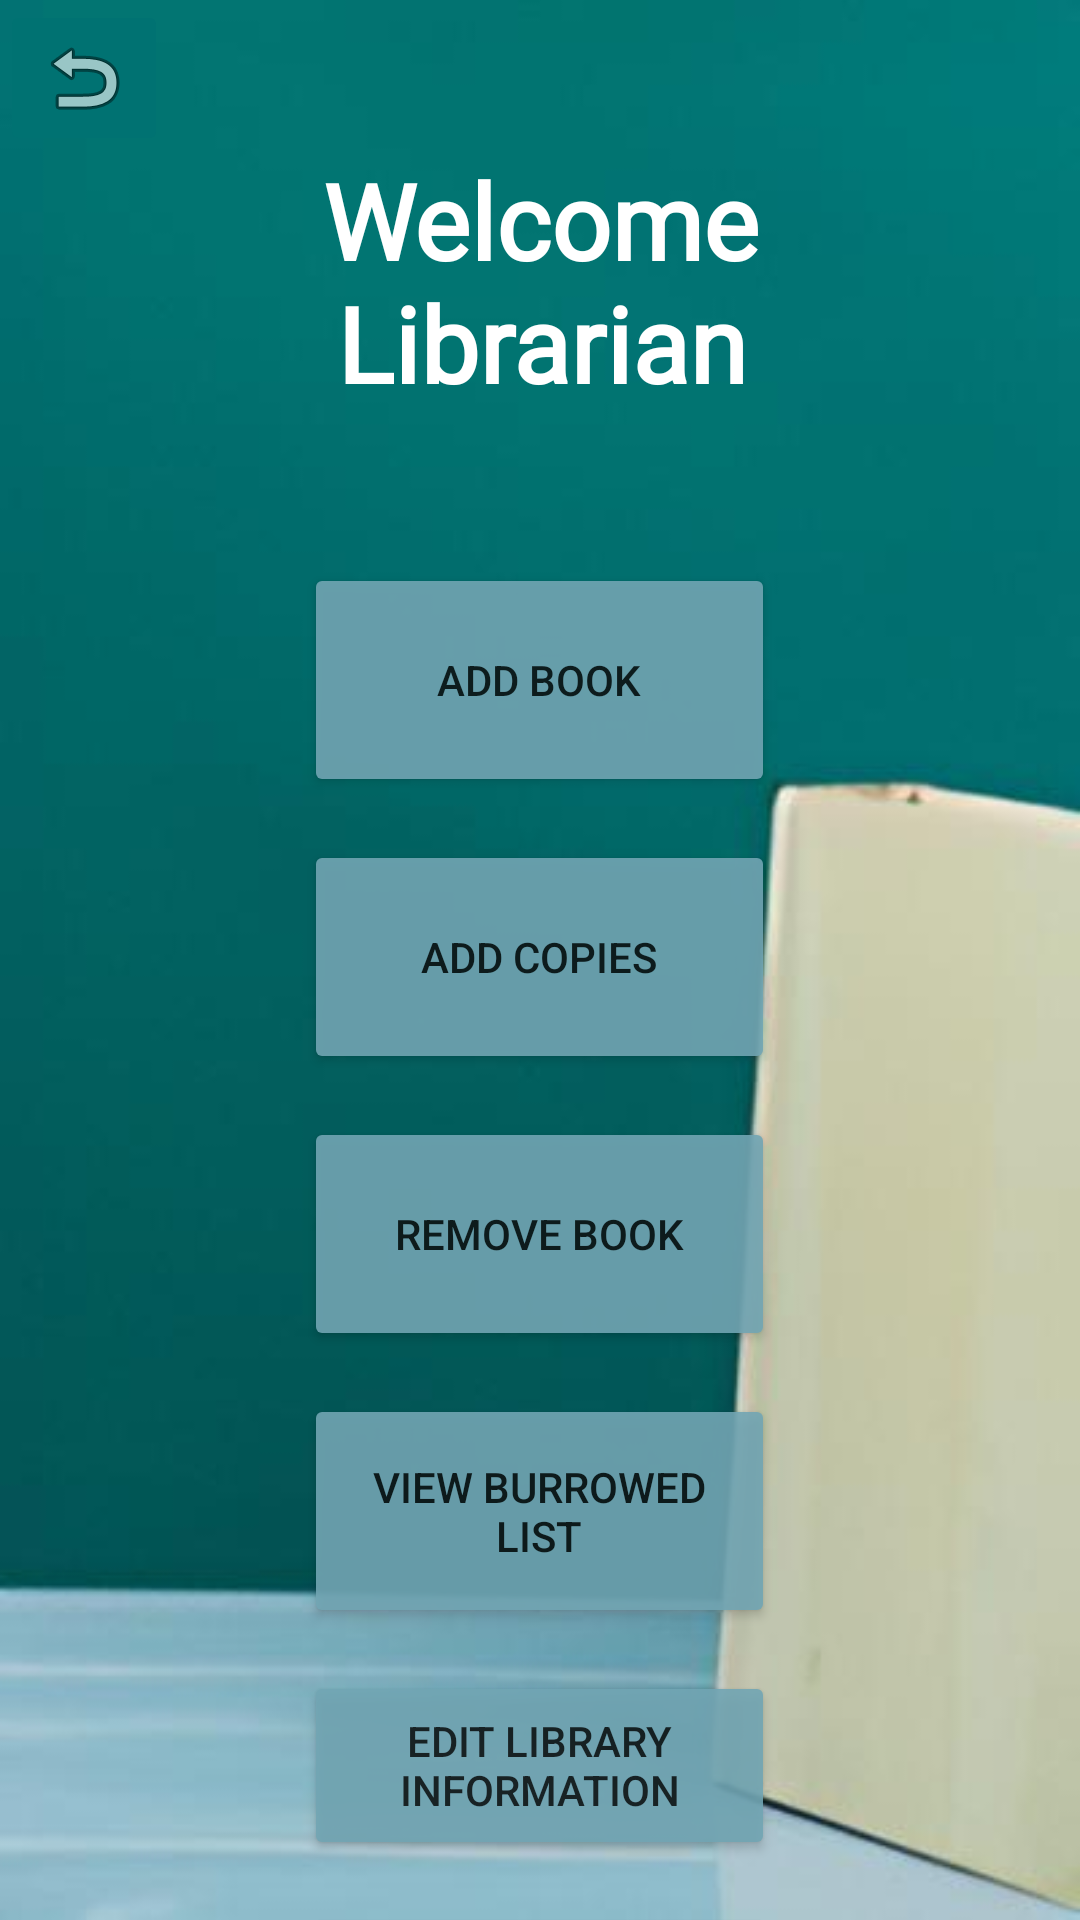

Point at icon controls on the screen. Image size 1080 x 1920, points as (x,y).
revert: (85,79)
